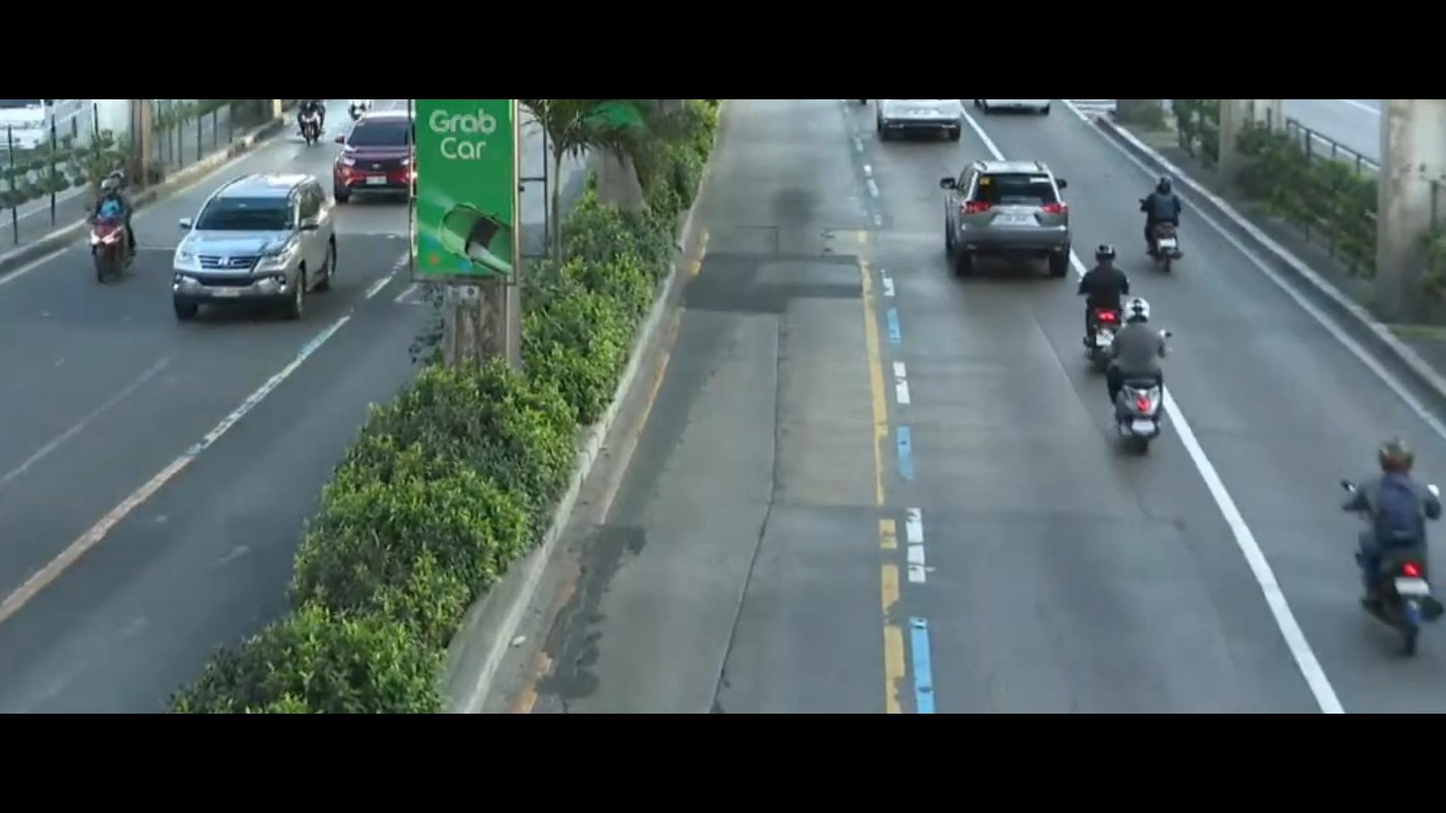Motorcycle: (1328, 411, 1446, 656), (1095, 298, 1183, 465), (83, 160, 162, 289), (1068, 249, 1145, 367), (1132, 177, 1200, 278), (288, 101, 328, 142)
SUV: (166, 170, 345, 332), (927, 149, 1074, 277), (331, 100, 425, 205)
